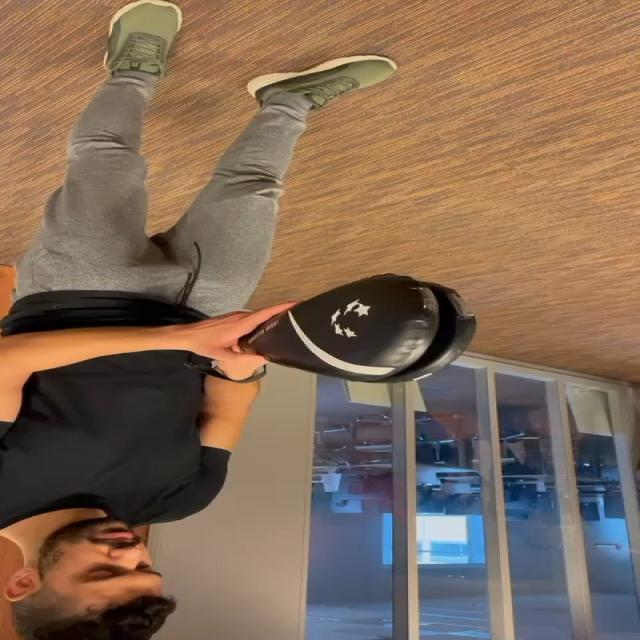paddle: (259, 282, 471, 381)
